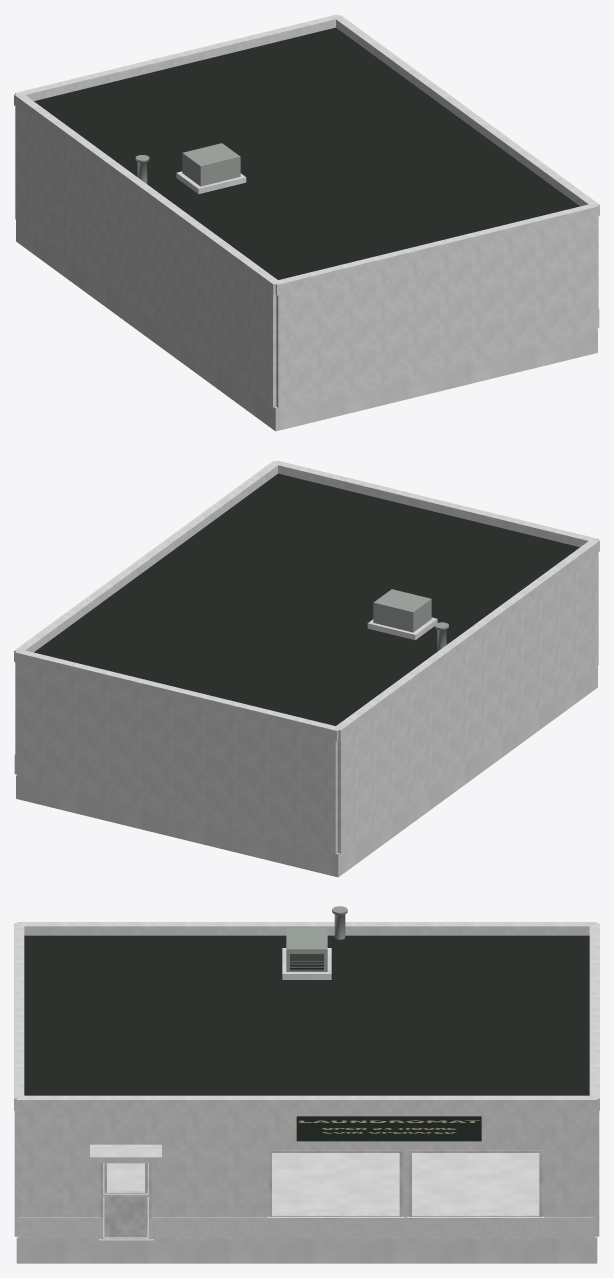
File: SM_Town_Laundry_Shell.glb
3 views of the same model, one above another, from view 1: azimuth 30°, elevation 25°; view 2: azimuth 150°, elevation 25°; view 3: azimuth 270°, elevation 25° (orthographic). The views are drawn at different scales.
Visible parts, largest first — view 1: SM_Town_Laundry_Shell; view 2: SM_Town_Laundry_Shell; view 3: SM_Town_Laundry_Shell.
Boxes of the visible parts, x1,y1,x2,y2 form: SM_Town_Laundry_Shell: [14, 14, 599, 431]; SM_Town_Laundry_Shell: [14, 460, 599, 877]; SM_Town_Laundry_Shell: [14, 906, 599, 1263].
Size of the model in its own units: 10.96 by 4.97 by 14.25.
8 materials, 6 textured.
